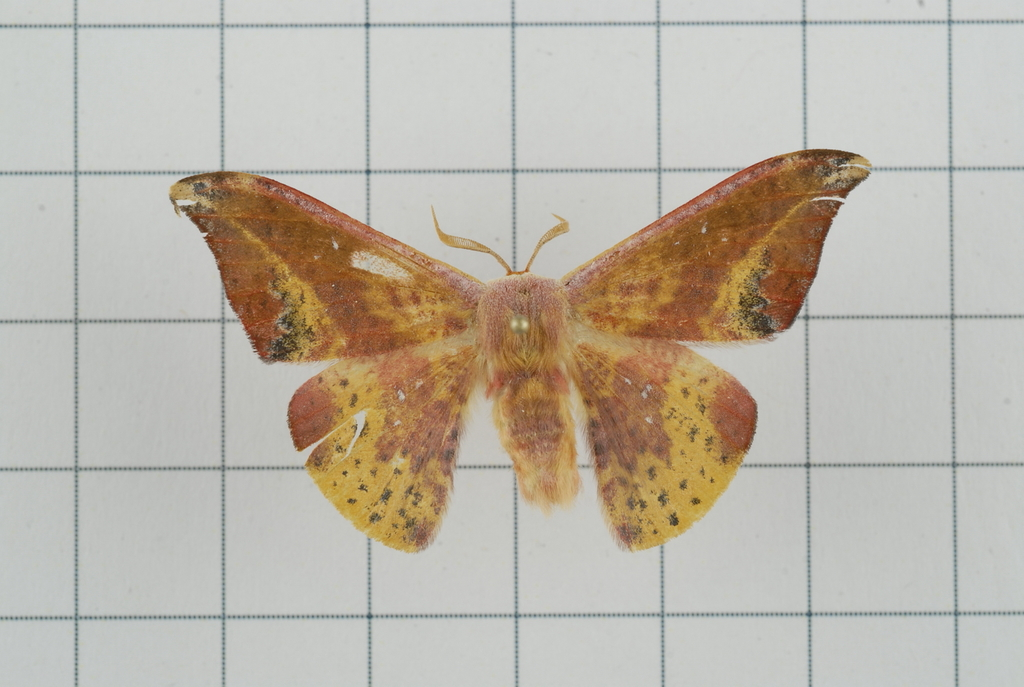Butterfly: (150, 148, 894, 569)
